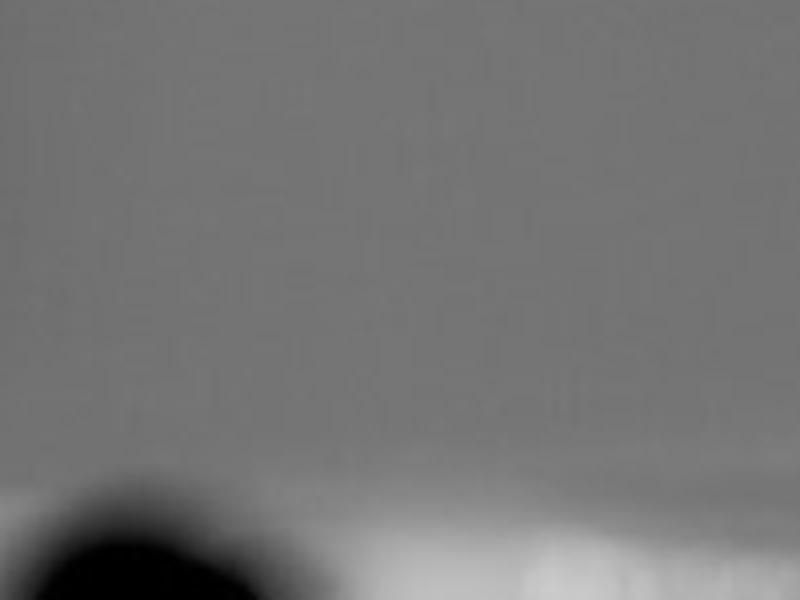defect: (34, 530, 253, 600)
